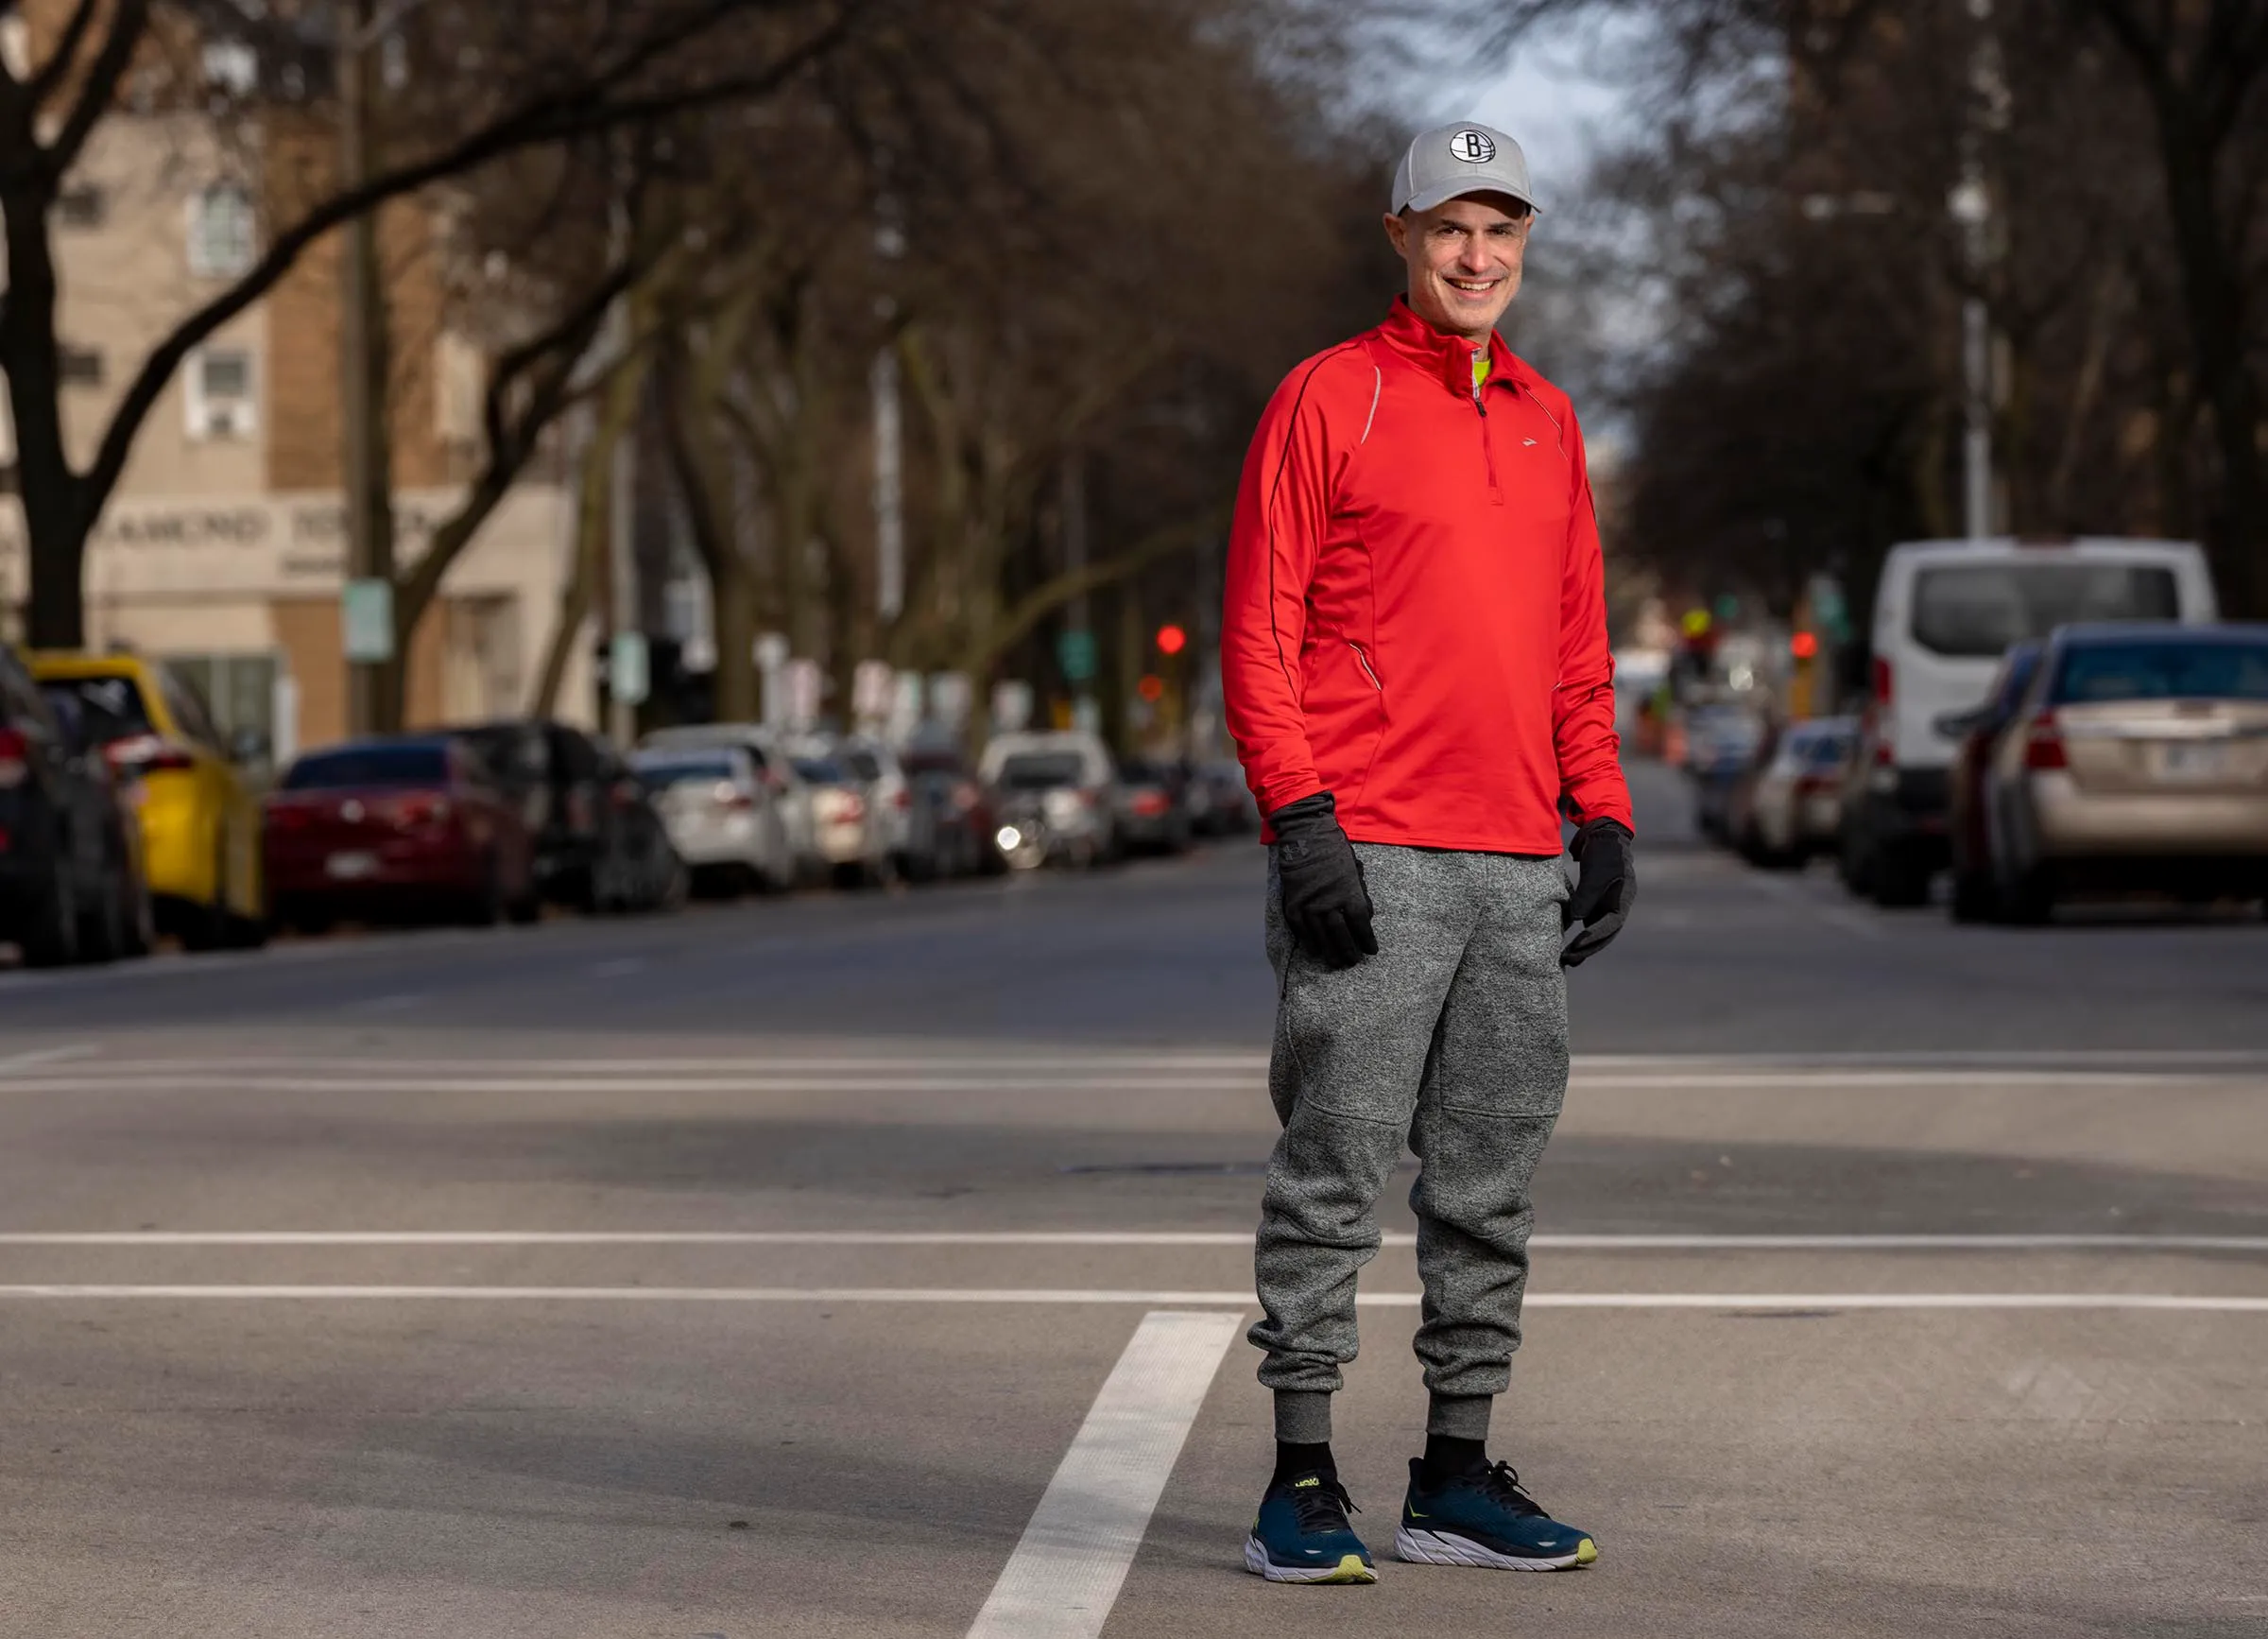car: (1850, 529, 2215, 907), (1980, 619, 2268, 931), (37, 626, 264, 940), (257, 740, 531, 951), (624, 742, 788, 891)
person: (1199, 112, 1643, 1591)
